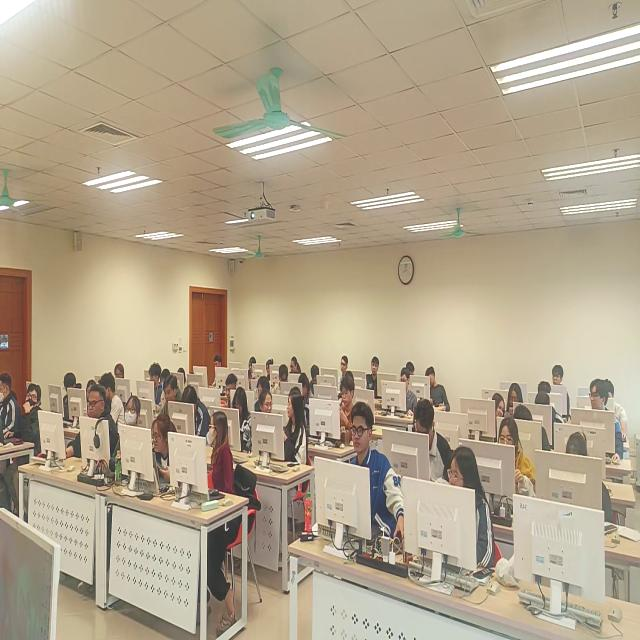raise_head: (349, 401, 405, 547), (447, 444, 496, 578), (587, 378, 626, 469), (85, 384, 120, 470), (112, 393, 142, 469), (17, 381, 44, 448), (551, 361, 573, 419), (368, 353, 382, 399), (338, 355, 351, 392)
using_computer: (567, 431, 613, 518), (496, 415, 540, 499), (416, 399, 452, 486), (153, 413, 180, 492), (513, 402, 550, 459), (604, 376, 629, 445), (183, 386, 211, 445), (1, 369, 22, 438), (155, 374, 182, 421), (232, 386, 250, 451), (62, 369, 82, 426), (535, 394, 565, 426), (401, 368, 419, 416), (156, 369, 171, 414), (274, 361, 292, 395), (224, 373, 238, 409), (148, 362, 160, 401), (212, 353, 225, 388), (299, 371, 314, 401), (256, 374, 272, 400), (289, 354, 302, 377), (312, 361, 322, 390), (539, 379, 554, 396), (114, 362, 126, 382), (248, 355, 258, 374), (178, 367, 187, 387), (267, 356, 275, 377)
using_phone: (338, 377, 357, 446), (507, 383, 526, 420)
